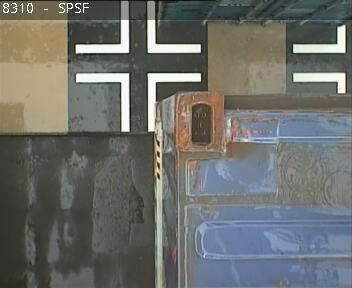groundmarker_1: (75, 72, 202, 132), (76, 1, 199, 55), (292, 25, 346, 94)
